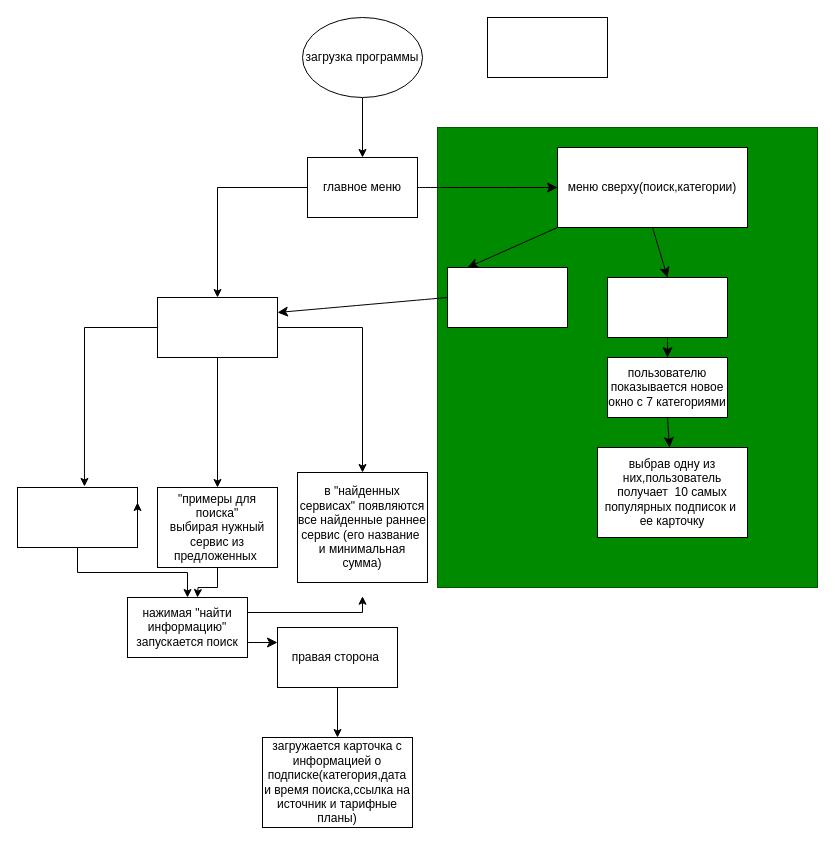
This 835x845 diagram has some shape labels left out. The centre of each missing label's shape, as x and y in pixels:
категории: point 667,307
левый край (поиск,примеры для поиска и найденные сервисы: point 217,327
поиск(по умолчанию): point 507,297
ПОЛЬЗОВАТЕЛЬ: point 547,47
пользователь вводит название нужной подписки или же категории: point 77,517
